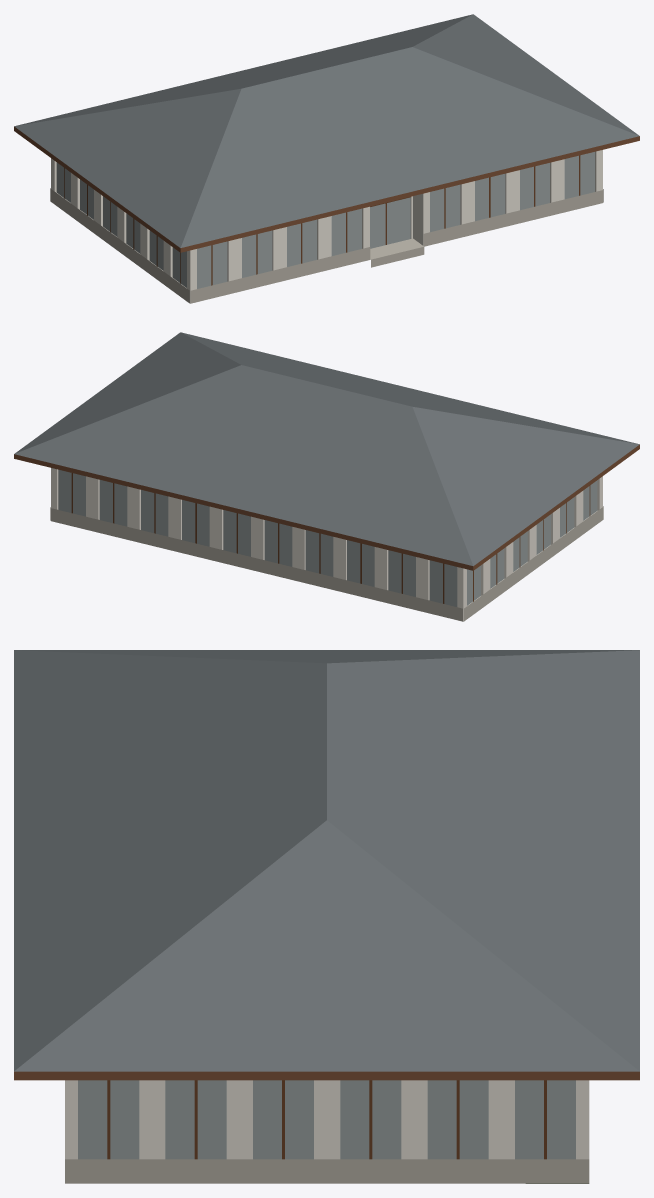
3 renders of one model, top to bottom at view 1: azimuth 30°, elevation 25°; view 2: azimuth 150°, elevation 25°; view 3: azimuth 270°, elevation 25°, orthographic. The views are drawn at different scales.
Visible parts, largest first — view 1: aryeong__roofAccent, aryeong__glass, aryeong__base, aryeong__wall, aryeong__trim, aryeong__frame; view 2: aryeong__roofAccent, aryeong__glass, aryeong__wall, aryeong__base, aryeong__trim, aryeong__frame; view 3: aryeong__roofAccent, aryeong__glass, aryeong__base, aryeong__wall, aryeong__trim, aryeong__frame.
Boxes of the visible parts, bbox=[...] form: aryeong__roofAccent: bbox=[14, 14, 639, 247]; aryeong__glass: bbox=[56, 152, 594, 288]; aryeong__base: bbox=[50, 188, 603, 303]; aryeong__wall: bbox=[51, 150, 602, 303]; aryeong__trim: bbox=[14, 126, 639, 252]; aryeong__frame: bbox=[64, 155, 580, 285]; aryeong__roofAccent: bbox=[14, 332, 639, 566]; aryeong__glass: bbox=[58, 469, 597, 606]; aryeong__wall: bbox=[51, 468, 602, 621]; aryeong__base: bbox=[50, 506, 603, 621]; aryeong__trim: bbox=[14, 444, 639, 570]; aryeong__frame: bbox=[71, 473, 590, 603]; aryeong__roofAccent: bbox=[14, 650, 639, 1071]; aryeong__glass: bbox=[78, 1080, 575, 1159]; aryeong__base: bbox=[65, 1159, 589, 1183]; aryeong__wall: bbox=[65, 1080, 589, 1159]; aryeong__trim: bbox=[14, 1071, 639, 1080]; aryeong__frame: bbox=[107, 1080, 546, 1159].
Bounding box in the file's own units: 25.8 × 7.6 × 16.2.
